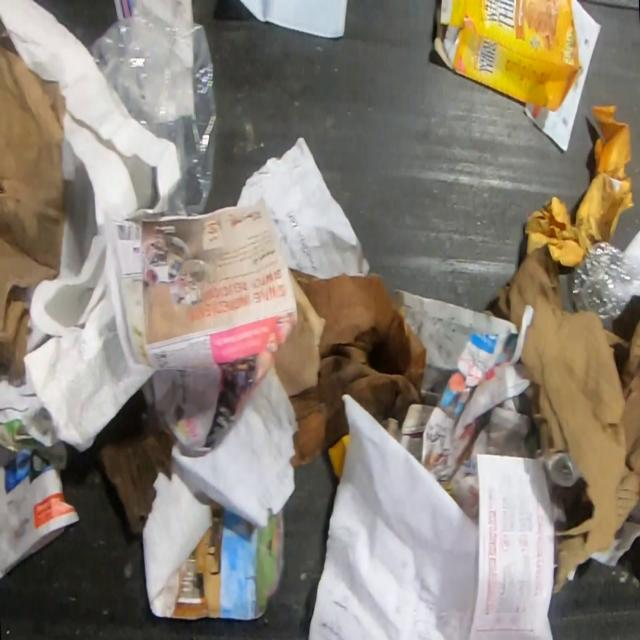cardboard: (481, 243, 640, 593), (288, 268, 428, 465), (0, 42, 68, 378), (432, 0, 584, 112), (95, 426, 175, 536)
rigid_plastic: (571, 239, 640, 335)
soft_plastic: (88, 11, 217, 216)
